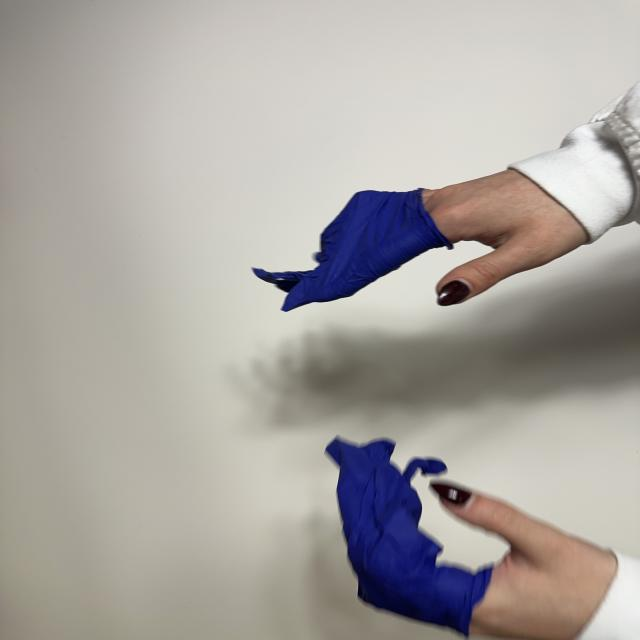glove_partial: (327, 439, 632, 640), (258, 169, 594, 311)
